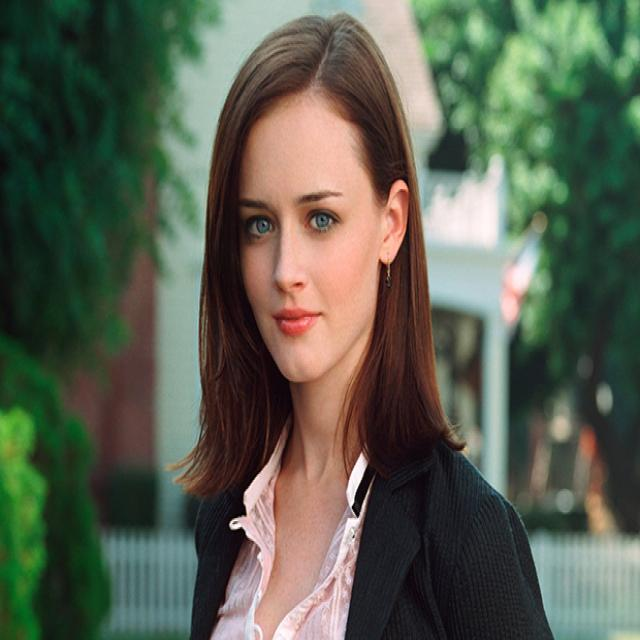human: (166, 8, 563, 640)
